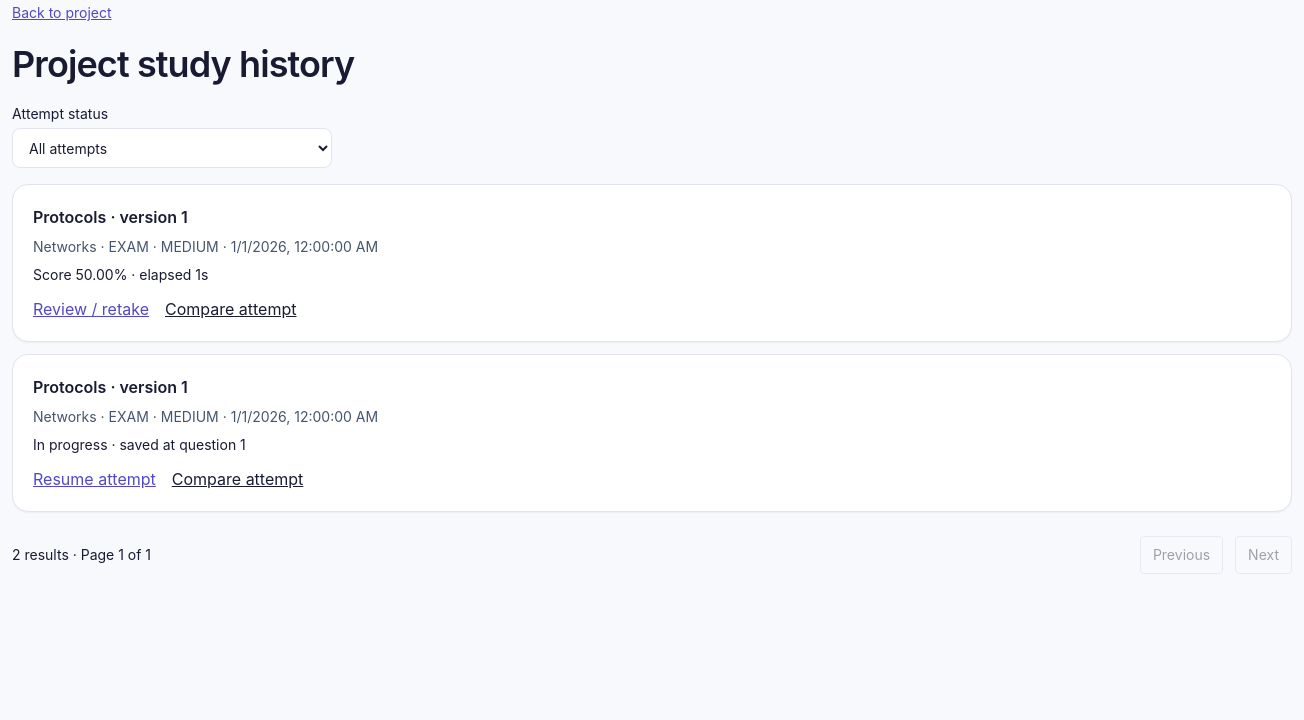
Scenario: shows incomplete status, version-aware comparison and empty filtered project history
Check: the text "In progress · saved at question 1" is shown, box [33,436,246,453]
Click the button "Compare attempt" next to "Review / retake" at (231, 309), box [165,297,296,321]
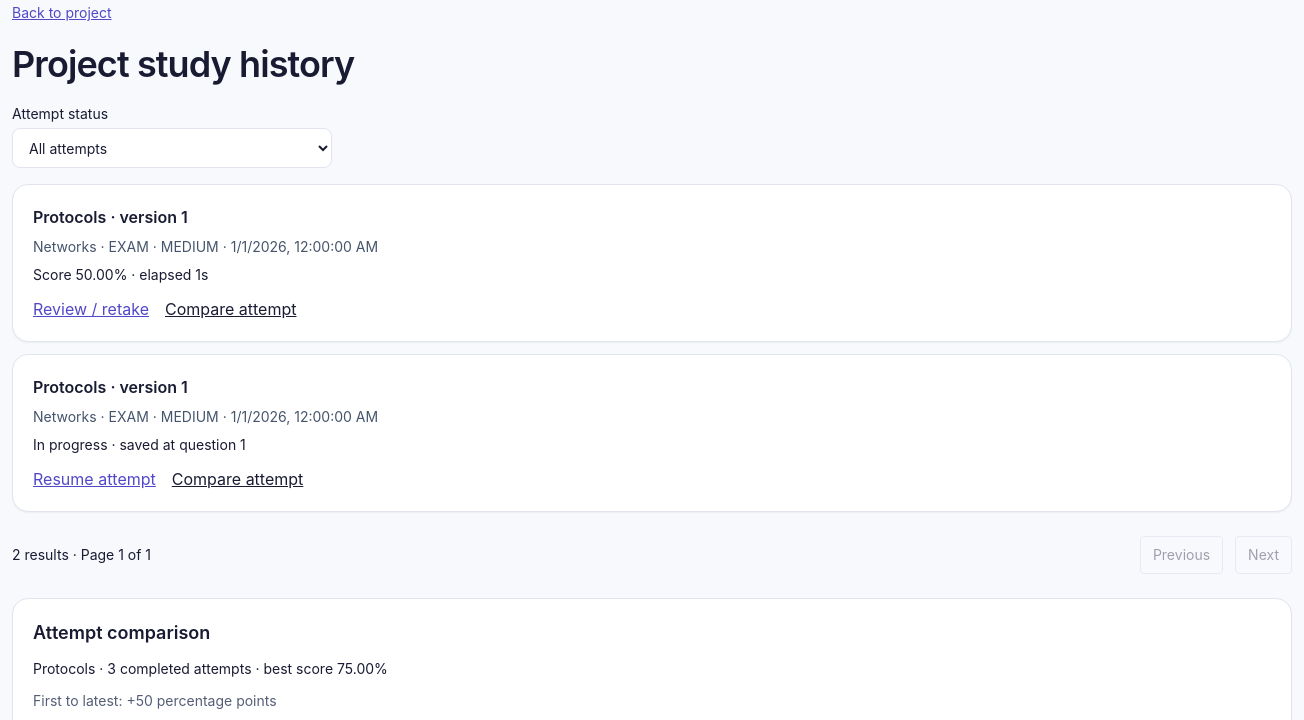
Select "Abandoned" in the dropdown labelled "Attempt status" at (172, 148), box [12,128,332,168]
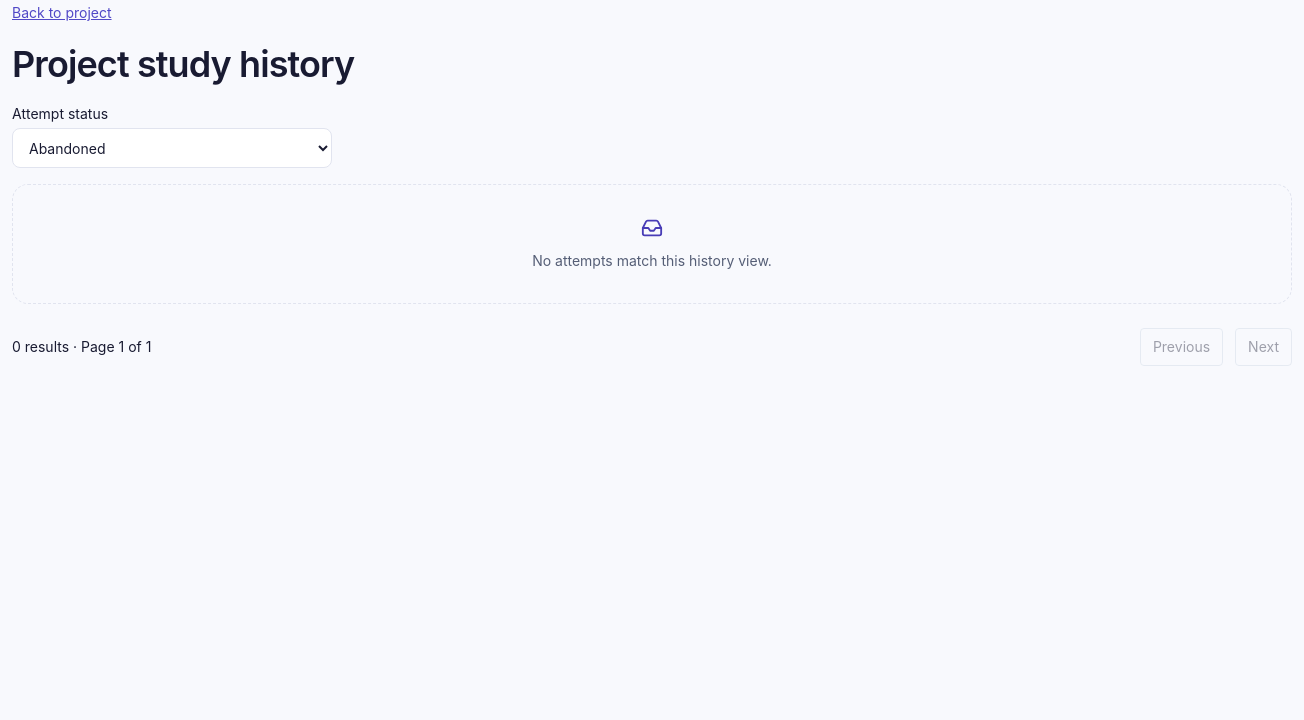
Check: the text "No attempts match this history view." is shown, box [532,251,772,271]
